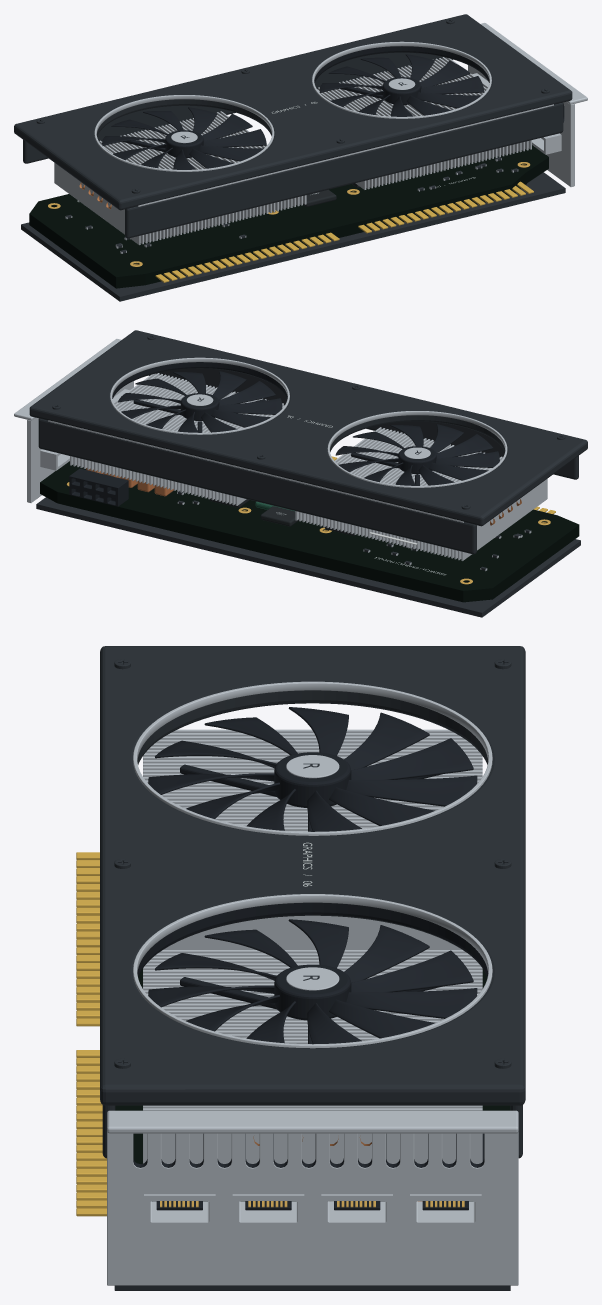
File: graphics-card.glb
3 renders of one model, top to bottom at view 1: azimuth 30°, elevation 25°; view 2: azimuth 150°, elevation 25°; view 3: azimuth 270°, elevation 25°, orthographic. The views are drawn at different scales.
Parts seen in each view (by area): view 1: gpu-cooler-surfaces, gpu-pcb-surfaces, gpu-fins-surfaces, gpu-backplate-surfaces, gpu-fan-right-surfaces, gpu-fan-left-surfaces, gpu-ports-surfaces; view 2: gpu-cooler-surfaces, gpu-pcb-surfaces, gpu-fins-surfaces, gpu-backplate-surfaces, gpu-fan-right-surfaces, gpu-fan-left-surfaces, gpu-ports-surfaces, gpu-power-zone-surfaces, gpu-vram-instance-05-surfaces; view 3: gpu-cooler-surfaces, gpu-ports-surfaces, gpu-fins-surfaces, gpu-fan-right-surfaces, gpu-fan-left-surfaces, gpu-pcb-surfaces, gpu-backplate-surfaces.
Boxes of the visible parts, x1,y1,x2,y2 form: gpu-cooler-surfaces: (14,14,572,238); gpu-pcb-surfaces: (29,145,548,288); gpu-fins-surfaces: (54,57,531,245); gpu-backplate-surfaces: (21,172,565,301); gpu-fan-right-surfaces: (319,54,484,116); gpu-fan-left-surfaces: (102,107,266,169); gpu-ports-surfaces: (468,23,587,186); gpu-cooler-surfaces: (29,330,587,554); gpu-pcb-surfaces: (40,456,579,602); gpu-fins-surfaces: (70,373,547,560); gpu-backplate-surfaces: (36,497,580,617); gpu-fan-right-surfaces: (118,371,282,432); gpu-fan-left-surfaces: (335,424,499,485); gpu-ports-surfaces: (14,339,133,502); gpu-power-zone-surfaces: (69,468,128,506); gpu-vram-instance-05-surfaces: (260,506,298,526); gpu-cooler-surfaces: (100,646,525,1158); gpu-ports-surfaces: (107,1110,518,1285); gpu-fins-surfaces: (143,729,482,1163); gpu-fan-right-surfaces: (148,919,477,1044); gpu-fan-left-surfaces: (148,707,477,831); gpu-pcb-surfaces: (76,852,510,1216); gpu-backplate-surfaces: (114,1285,510,1290).
Bounding box in the file's own units: 11.04 × 2.44 × 4.56.
14 materials, 1 textured.
